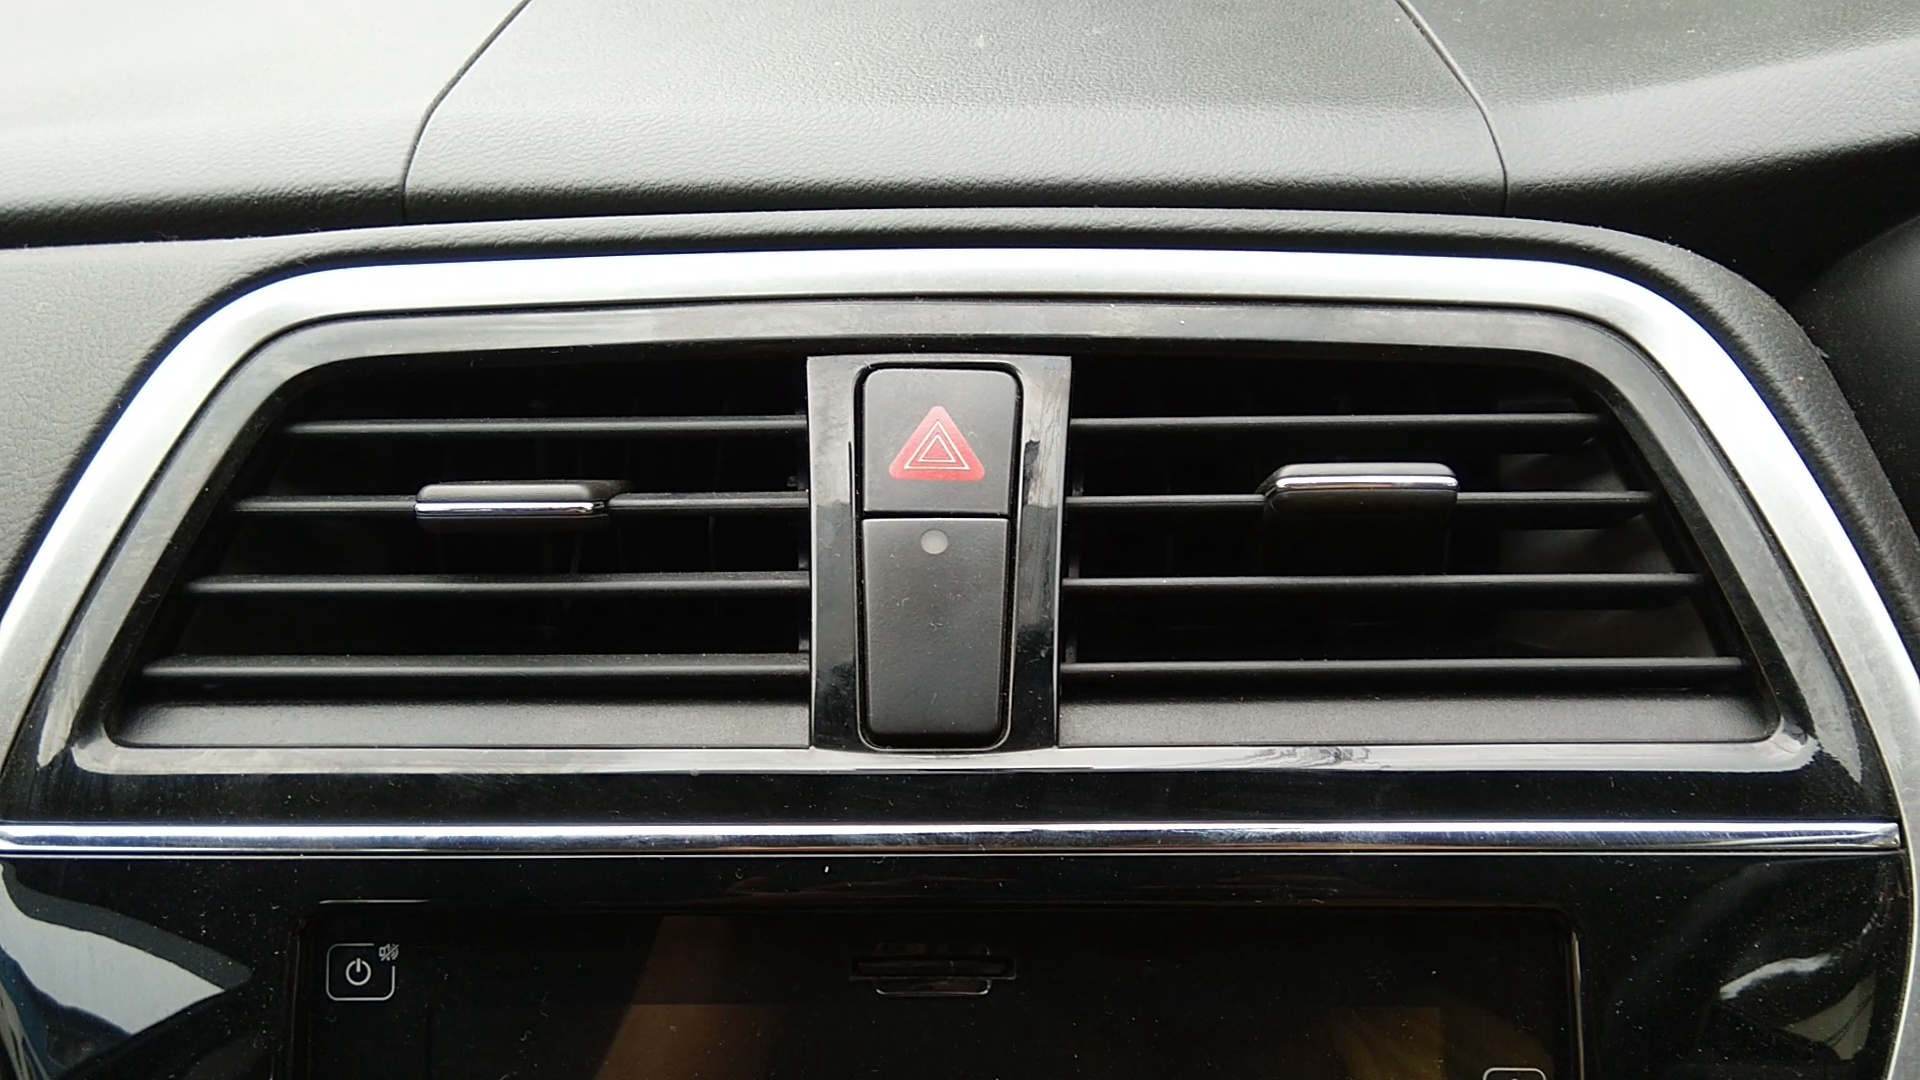parking_button: (880, 377, 1001, 500)
